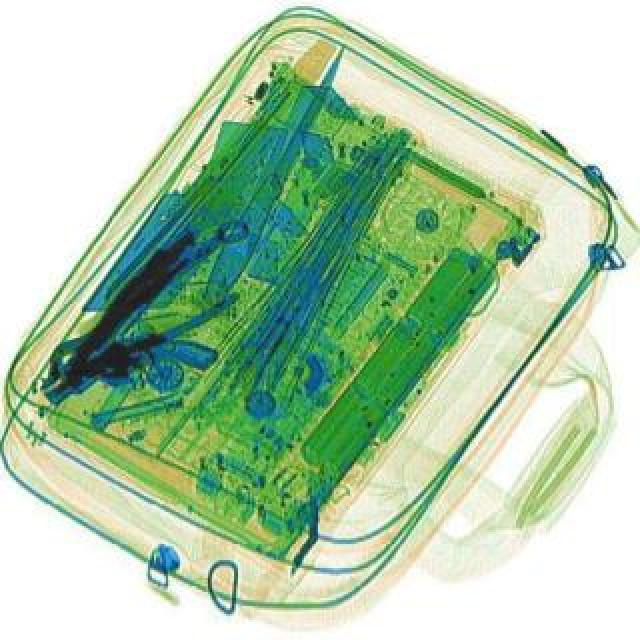gun: (36, 300, 224, 458)
knife: (192, 32, 364, 316)
scissors: (40, 208, 256, 392)
wrench: (28, 234, 248, 420)
